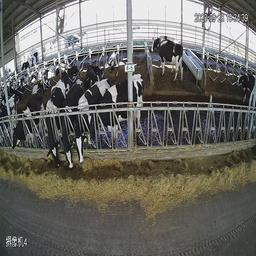cow: (88, 73, 145, 142), (12, 82, 46, 151), (63, 76, 79, 179), (46, 77, 63, 171), (156, 37, 187, 83), (233, 64, 251, 100), (19, 60, 38, 73)
